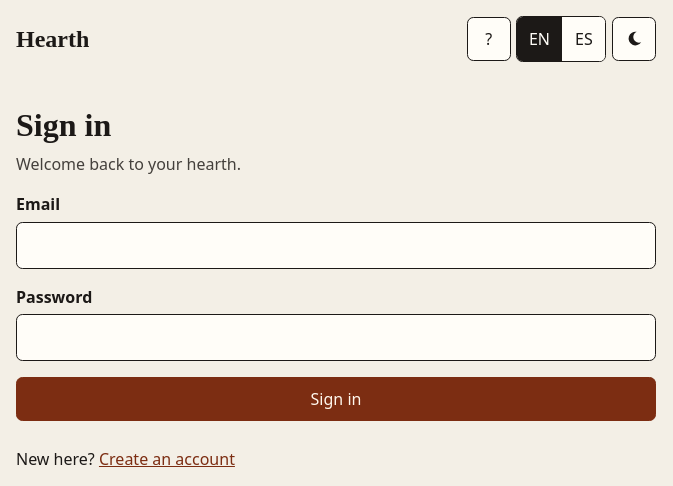
Test: auth screen › switches language from the sign-in header
Click the button with aria-label "Spanish".
click(583, 39)  # box 561,17 -> 605,61
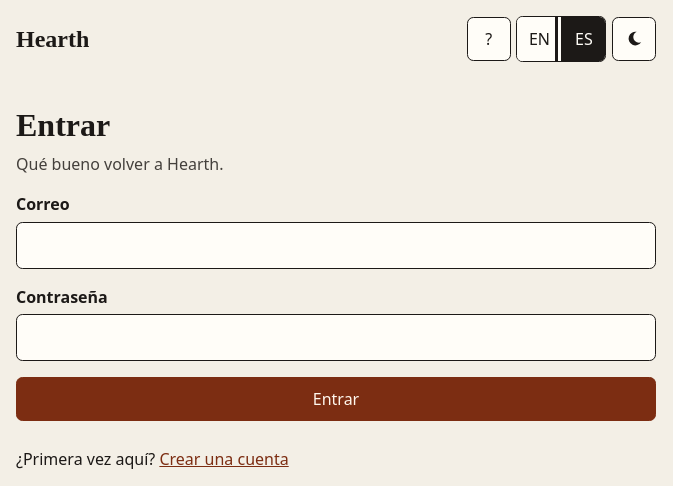
expect the field labelled "Correo" is shown: met, box 16,222 -> 656,269
expect the button "Entrar" is shown: met, box 16,377 -> 656,421
